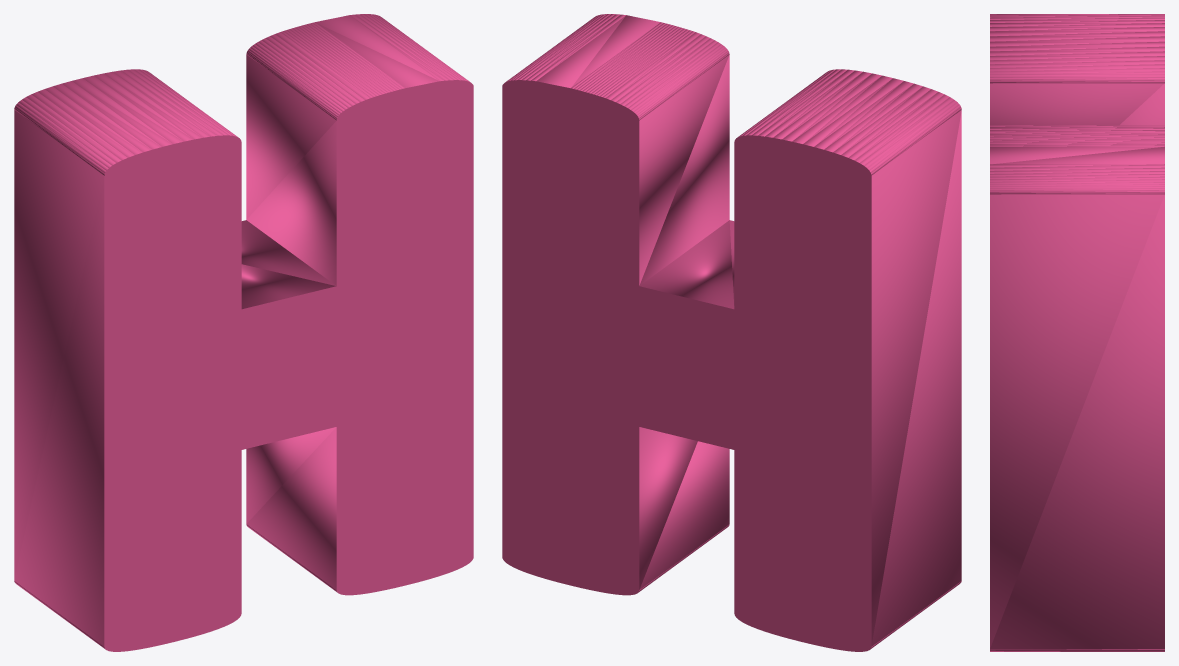
The picture shows the model from 3 angles, left to right: view 1: azimuth 30°, elevation 25°; view 2: azimuth 150°, elevation 25°; view 3: azimuth 270°, elevation 25°; orthographic projection. The views are drawn at different scales.
Parts seen in each view (by area): view 1: h; view 2: h; view 3: h.
Part boxes in pixels (x1=…): h: x1=14, y1=14, x2=473, y2=651; h: x1=502, y1=14, x2=961, y2=651; h: x1=990, y1=14, x2=1164, y2=651.
Bounding box in the file's own units: 227 × 292 × 96.01.
